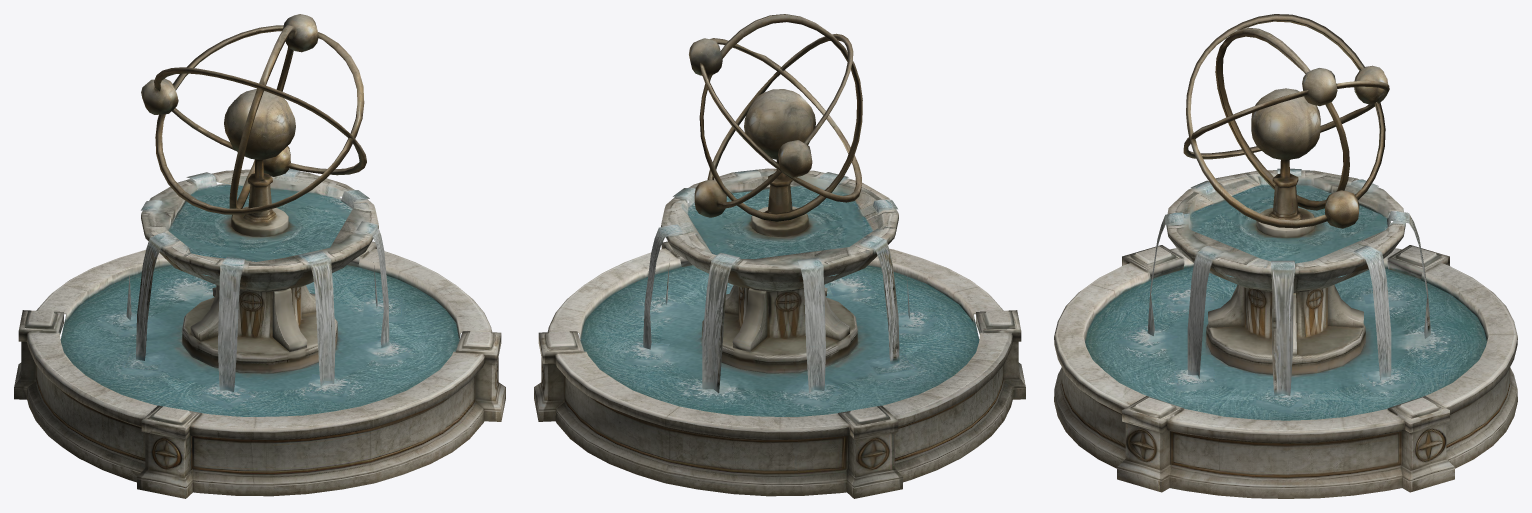
The model's file is fountain.glb.
The picture shows the model from 3 angles, left to right: view 1: azimuth 30°, elevation 25°; view 2: azimuth 150°, elevation 25°; view 3: azimuth 270°, elevation 25°; orthographic projection.
Parts seen in each view (by area): view 1: tripo_980813de_218f_4a23_a7e9_7e781594f7ed; view 2: tripo_980813de_218f_4a23_a7e9_7e781594f7ed; view 3: tripo_980813de_218f_4a23_a7e9_7e781594f7ed.
Part boxes in pixels (x1,y1,x2,y2): tripo_980813de_218f_4a23_a7e9_7e781594f7ed: (14, 14, 505, 498); tripo_980813de_218f_4a23_a7e9_7e781594f7ed: (534, 14, 1025, 498); tripo_980813de_218f_4a23_a7e9_7e781594f7ed: (1054, 14, 1517, 498).
Bounding box in the file's own units: 0.9937 × 0.895 × 0.9995.
Materials: 1 (1 with a texture image).
